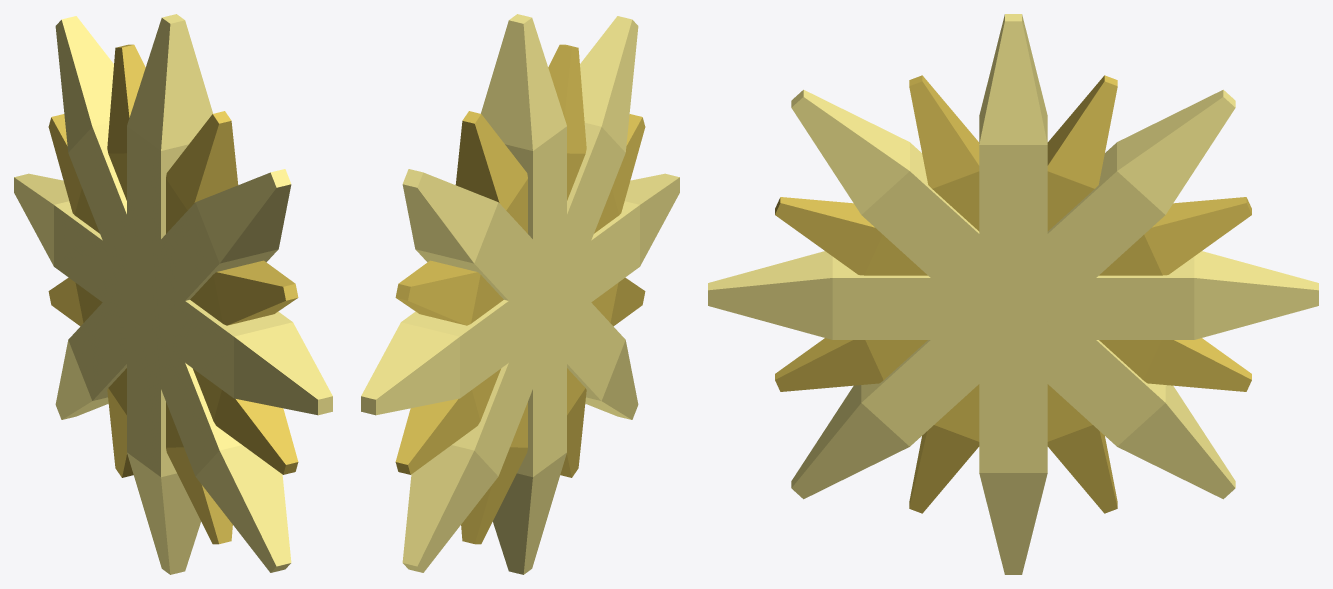
The model's file is gigaSun.fbx.
3 renders of one model, left to right at view 1: azimuth 30°, elevation 25°; view 2: azimuth 150°, elevation 25°; view 3: azimuth 270°, elevation 25°, orthographic.
Visible parts, largest first — view 1: GigaSun; view 2: GigaSun; view 3: GigaSun.
Part boxes in pixels (left/top/right/bottom): GigaSun: left=14, top=14, right=332, bottom=574; GigaSun: left=361, top=14, right=679, bottom=574; GigaSun: left=708, top=14, right=1318, bottom=574.
Size of the model in its own units: 77.12 by 687 by 687.
